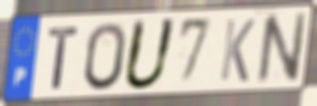7: (177, 16, 215, 89)
K: (218, 17, 258, 84)
N: (255, 10, 309, 88)
O: (83, 20, 129, 93)
T: (46, 25, 81, 92)
U: (120, 16, 180, 93)
